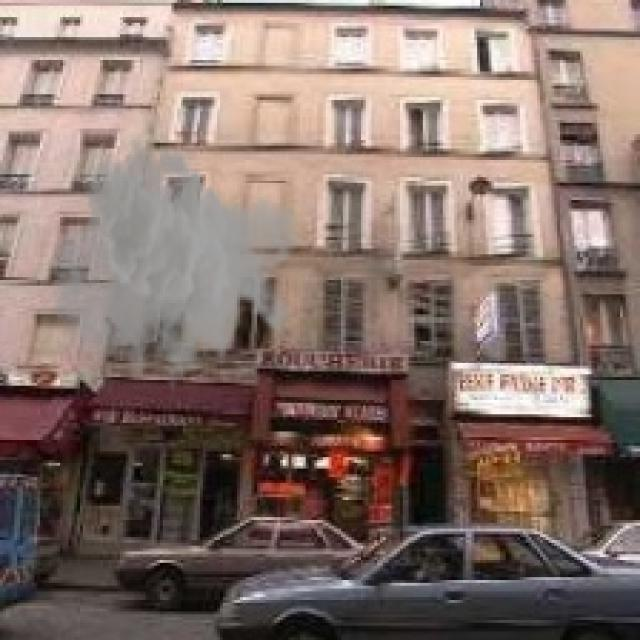Smoke: (48, 134, 303, 400)
